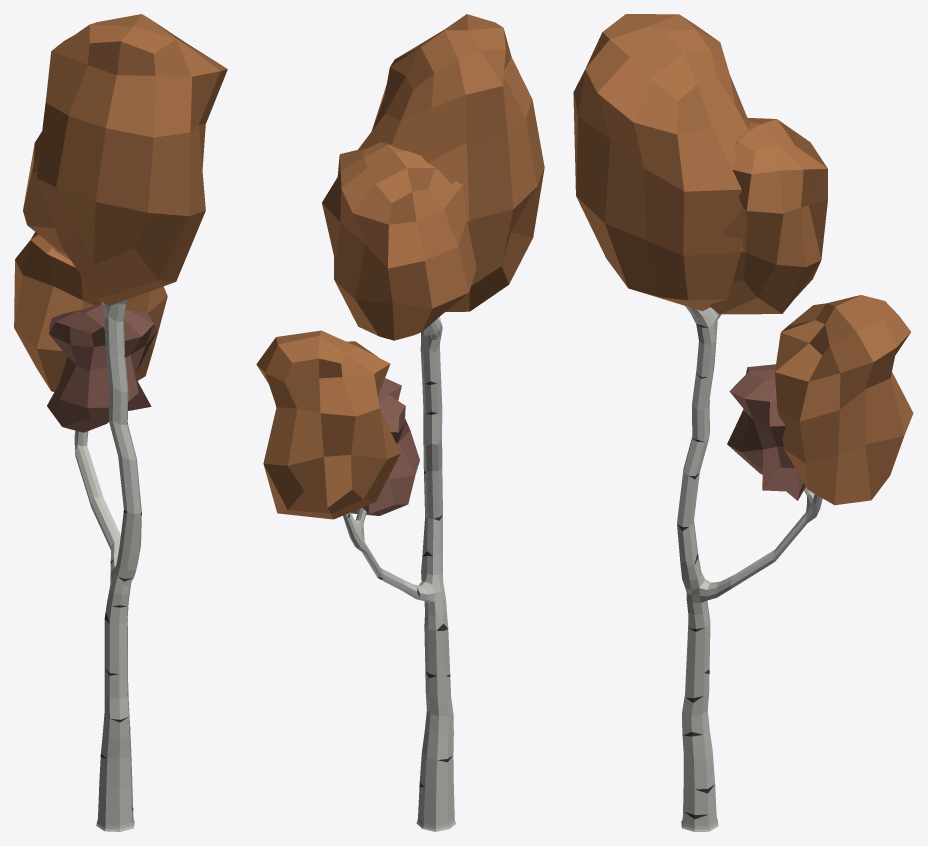
File: BirchTree_Autumn_5.glb
3 renders of one model, left to right at view 1: azimuth 30°, elevation 25°; view 2: azimuth 150°, elevation 25°; view 3: azimuth 270°, elevation 25°, orthographic. The views are drawn at different scales.
Parts seen in each view (by area): view 1: BirchTree_Autumn_5; view 2: BirchTree_Autumn_5; view 3: BirchTree_Autumn_5.
Part boxes in pixels (left/top/right/bottom): BirchTree_Autumn_5: left=14, top=14, right=227, bottom=831; BirchTree_Autumn_5: left=256, top=14, right=544, bottom=831; BirchTree_Autumn_5: left=573, top=14, right=913, bottom=831.
Bounding box in the file's own units: 0.4749 × 2 × 0.7734.
